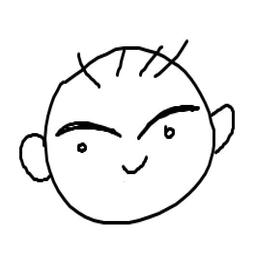ear: (18, 130, 51, 187), (211, 99, 239, 157)
eyebrow: (53, 118, 125, 140)
frowning_eyebrow: (133, 103, 204, 140)
mouth: (113, 148, 156, 180)
small_eye: (163, 123, 178, 147), (76, 140, 89, 157)
